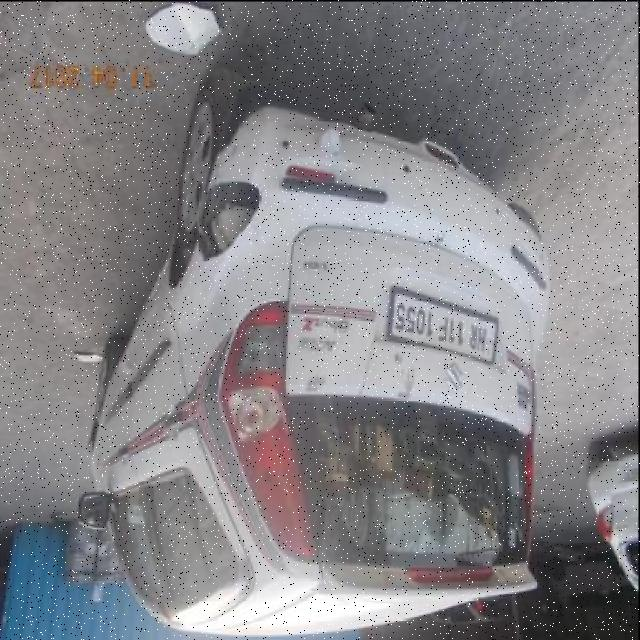damage: (198, 167, 269, 264), (210, 109, 268, 179), (316, 119, 354, 160)
